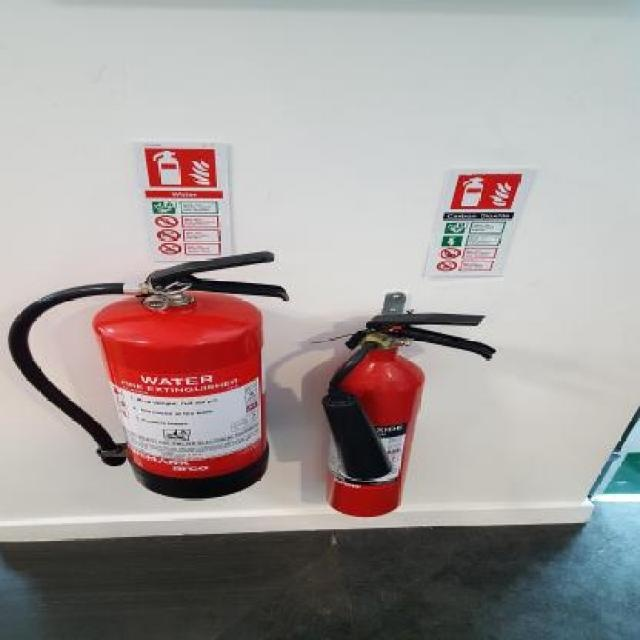fire extinguisher: (5, 250, 291, 502), (323, 313, 495, 519)
